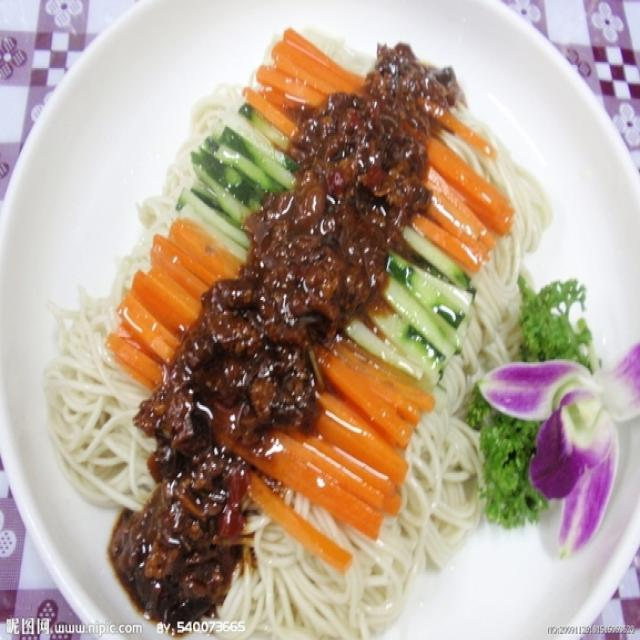面条主食: (21, 21, 636, 624)
